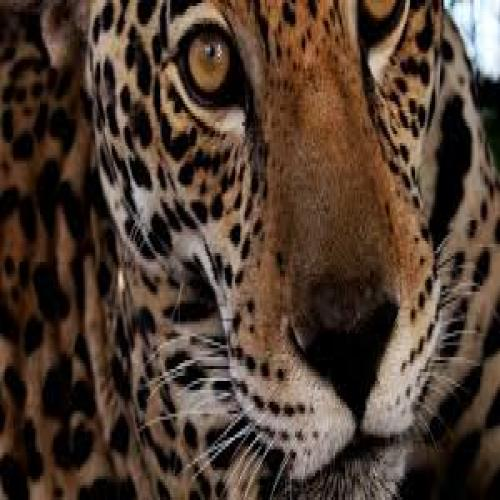jaguar_not-endangered: (14, 18, 490, 488)
